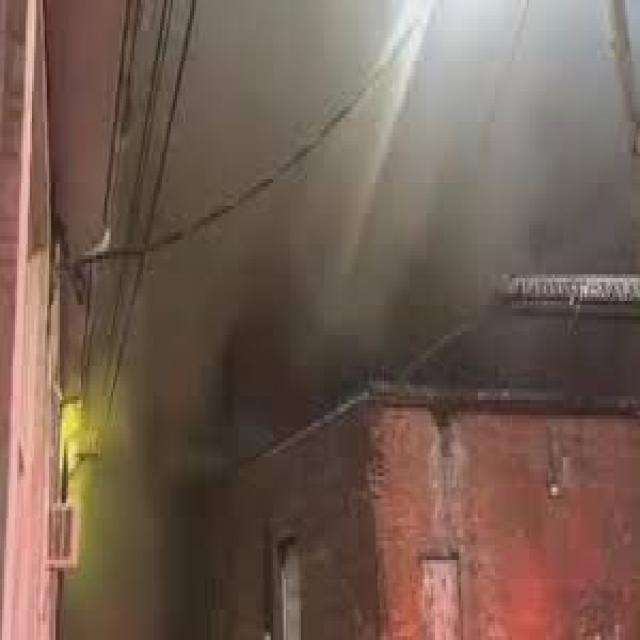Smoke: (197, 222, 353, 453)
